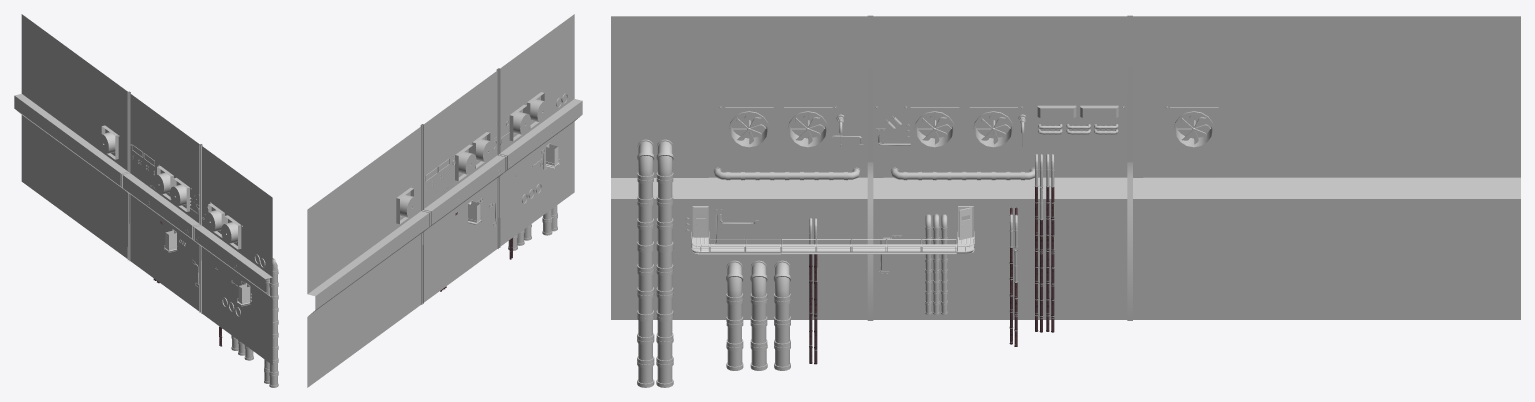
The model's file is Wall_Left.fbx.
3 renders of one model, left to right at view 1: azimuth 30°, elevation 25°; view 2: azimuth 150°, elevation 25°; view 3: azimuth 270°, elevation 25°, orthographic. The views are drawn at different scales.
Visible parts, largest first — view 1: Wall_Left_Part3, Wall_Left_Part1, Wall_Left_Part2, Big_Tube042, Column_Left_Wall, Wall_Fan019, Wall_Fan027, Wall_Fan023, Wall_Fan025, Wall_Fan021, Wall_Left_Door_Closed, Big_Tube_Curved065; view 2: Wall_Left_Part3, Wall_Left_Part1, Wall_Left_Part2, Column_Left_Wall, Big_Tube042, Wall_Fan021, Wall_Fan027, Wall_Fan025, Wall_Fan023, Wall_Fan019, Wall_Left_Door_Closed, Wall_Left_Door_Closed001; view 3: Wall_Left_Part3, Wall_Left_Part2, Wall_Left_Part1, Big_Tube042, Column_Left_Wall, Big_Tube_Curved065, Medium_Tube019, Object024, Small_Tube034, Wall_Set_Props_02, Wall_Fan023, Wall_Fan025 (+5 smaller).
Part boxes in pixels (<box>): Wall_Left_Part3: <box>14,14,129,259</box>; Wall_Left_Part1: <box>194,146,272,364</box>; Wall_Left_Part2: <box>122,93,201,312</box>; Big_Tube042: <box>231,272,278,387</box>; Column_Left_Wall: <box>120,91,202,313</box>; Wall_Fan019: <box>221,215,241,249</box>; Wall_Fan027: <box>98,125,118,159</box>; Wall_Fan023: <box>170,177,189,211</box>; Wall_Fan025: <box>154,166,173,200</box>; Wall_Fan021: <box>205,203,224,237</box>; Wall_Left_Door_Closed: <box>238,283,250,303</box>; Big_Tube_Curved065: <box>133,156,278,316</box>; Wall_Left_Part3: <box>307,126,429,387</box>; Wall_Left_Part1: <box>498,14,582,247</box>; Wall_Left_Part2: <box>422,70,505,303</box>; Column_Left_Wall: <box>420,68,507,304</box>; Big_Tube042: <box>508,205,557,250</box>; Wall_Fan021: <box>509,105,530,141</box>; Wall_Fan027: <box>396,187,417,224</box>; Wall_Fan025: <box>455,144,476,181</box>; Wall_Fan023: <box>472,132,493,168</box>; Wall_Fan019: <box>527,92,548,128</box>; Wall_Left_Door_Closed: <box>546,143,558,165</box>; Wall_Left_Door_Closed001: <box>468,200,480,222</box>; Wall_Left_Part3: <box>1133,16,1520,319</box>; Wall_Left_Part2: <box>873,16,1127,319</box>; Wall_Left_Part1: <box>611,16,867,319</box>; Big_Tube042: <box>637,125,1111,387</box>; Column_Left_Wall: <box>867,15,1132,320</box>; Big_Tube_Curved065: <box>637,124,1118,301</box>; Medium_Tube019: <box>728,171,1022,314</box>; Object024: <box>691,231,974,254</box>; Small_Tube034: <box>809,187,1054,364</box>; Wall_Set_Props_02: <box>709,105,1168,271</box>; Wall_Fan023: <box>910,107,959,151</box>; Wall_Fan025: <box>969,107,1017,151</box>.
Bounding box in the file's own units: 16.5 × 279 × 122.
